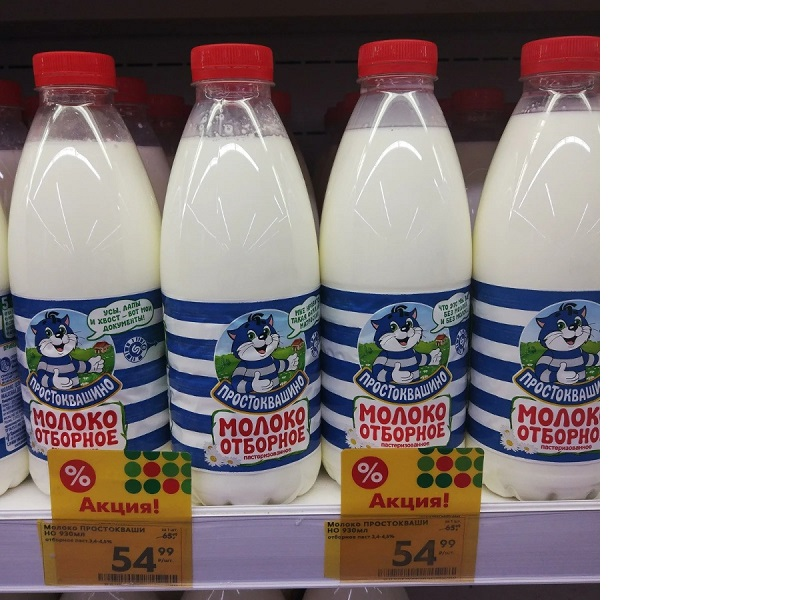milk: (162, 42, 337, 519), (320, 41, 480, 510), (14, 48, 174, 508), (469, 32, 602, 501)
